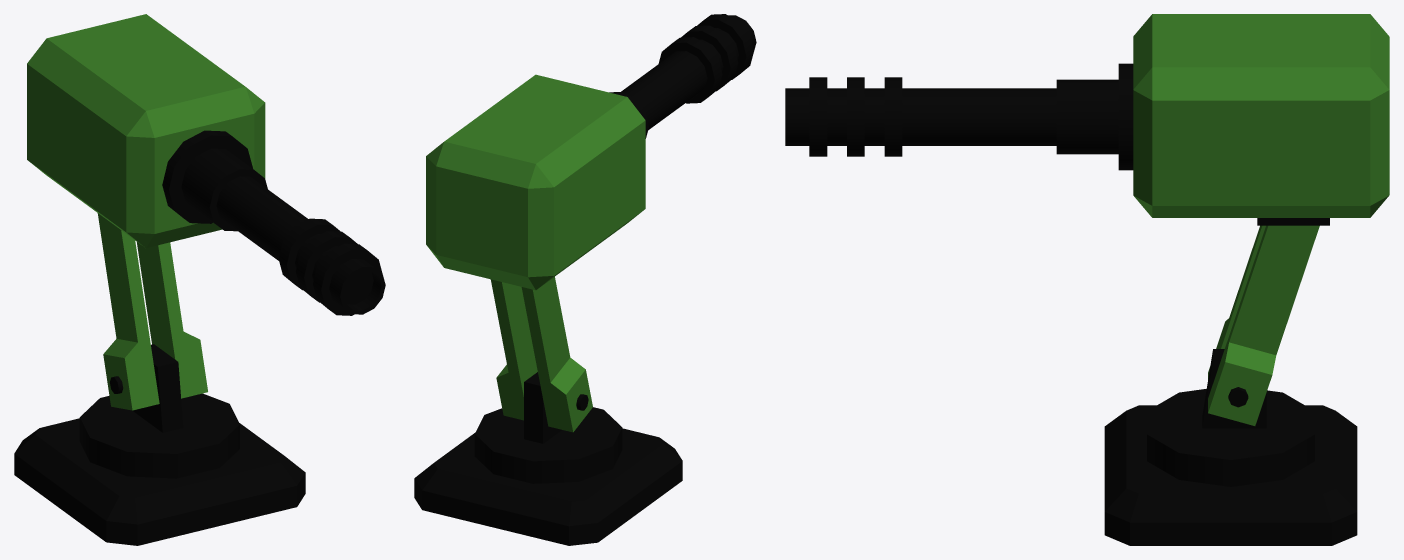
The model's file is Turret.fbx.
The picture shows the model from 3 angles, left to right: view 1: azimuth 30°, elevation 25°; view 2: azimuth 150°, elevation 25°; view 3: azimuth 270°, elevation 25°; orthographic projection. The views are drawn at different scales.
Visible parts, largest first — view 1: pCylinder9, pCube1; view 2: pCylinder9, pCube1; view 3: pCylinder9, pCube1.
Boxes of the visible parts, x1,y1,x2,y2 form: pCylinder9: (27, 14, 385, 478); pCube1: (14, 418, 305, 545); pCylinder9: (426, 14, 756, 483); pCube1: (414, 428, 682, 545); pCylinder9: (785, 14, 1389, 486); pCube1: (1104, 405, 1357, 545).
Size of the model in its own units: 4.72 by 9.32 by 11.29.
1 material, 1 textured.
